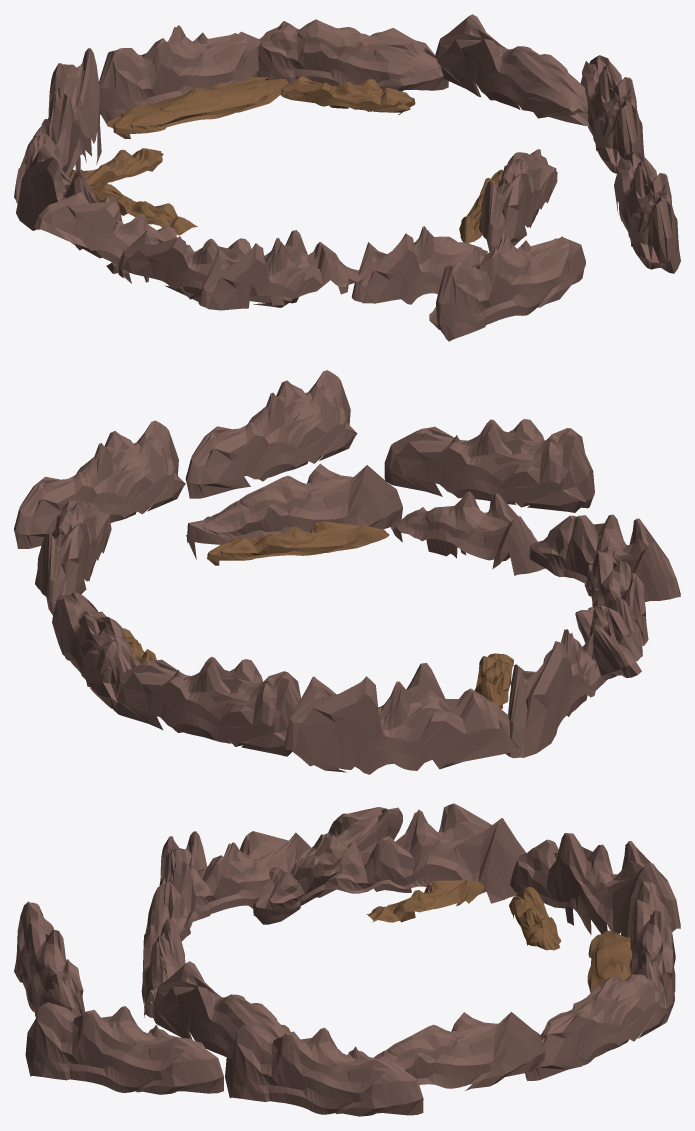
The model's file is mountains.gltf.
3 views of the same model, one above another, from view 1: azimuth 30°, elevation 25°; view 2: azimuth 150°, elevation 25°; view 3: azimuth 270°, elevation 25° (orthographic). The views are drawn at different scales.
Parts seen in each view (by area): view 1: FarMountains8_MountainsHills_0, Hills6_MountainsHills_0, FarMountains_MountainsHills_0, Hills7_MountainsHills_0, FarMountains4_MountainsHills_0, FarMountains5_MountainsHills_0, FarMountains2_MountainsHills_0, FarMountains6_MountainsHills_0, Hills5_MountainsHills_0, Hills_MountainsHills_0, FarMountains9_MountainsHills_0, FarMountains7_MountainsHills_0 (+6 smaller); view 2: FarMountains2_MountainsHills_0, FarMountains8_MountainsHills_0, FarMountains_MountainsHills_0, FarMountains6_MountainsHills_0, FarMountains7_MountainsHills_0, Hills_MountainsHills_0, FarMountains1_MountainsHills_0, FarMountains5_MountainsHills_0, FarMountains4_MountainsHills_0, Hills6_MountainsHills_0, Hills7_MountainsHills_0, Hills1_MountainsHills_0 (+3 smaller); view 3: FarMountains7_MountainsHills_0, FarMountains6_MountainsHills_0, FarMountains1_MountainsHills_0, FarMountains2_MountainsHills_0, Hills7_MountainsHills_0, Hills6_MountainsHills_0, FarMountains9_MountainsHills_0, Hills_MountainsHills_0, FarMountains3_MountainsHills_0, FarMountains8_MountainsHills_0, FarMountains_MountainsHills_0, FarMountains4_MountainsHills_0 (+4 smaller).
Boxes of the visible parts, x1,y1,x2,y2 form: FarMountains8_MountainsHills_0: [429, 235, 585, 341]; Hills6_MountainsHills_0: [257, 19, 448, 91]; FarMountains_MountainsHills_0: [99, 25, 260, 126]; Hills7_MountainsHills_0: [435, 14, 589, 126]; FarMountains4_MountainsHills_0: [198, 230, 365, 310]; FarMountains5_MountainsHills_0: [351, 226, 487, 304]; FarMountains2_MountainsHills_0: [14, 48, 101, 203]; FarMountains6_MountainsHills_0: [614, 151, 680, 273]; Hills5_MountainsHills_0: [107, 77, 288, 138]; Hills_MountainsHills_0: [479, 149, 557, 251]; FarMountains9_MountainsHills_0: [34, 192, 200, 301]; FarMountains7_MountainsHills_0: [580, 55, 644, 173]; FarMountains2_MountainsHills_0: [283, 663, 520, 774]; FarMountains8_MountainsHills_0: [384, 419, 594, 512]; FarMountains_MountainsHills_0: [113, 656, 300, 756]; FarMountains6_MountainsHills_0: [185, 370, 357, 498]; FarMountains7_MountainsHills_0: [14, 420, 185, 548]; Hills_MountainsHills_0: [186, 463, 402, 559]; FarMountains1_MountainsHills_0: [506, 629, 607, 758]; FarMountains5_MountainsHills_0: [390, 492, 545, 575]; FarMountains4_MountainsHills_0: [529, 514, 680, 601]; Hills6_MountainsHills_0: [52, 592, 140, 708]; Hills7_MountainsHills_0: [35, 499, 111, 614]; Hills1_MountainsHills_0: [207, 521, 389, 565]; FarMountains7_MountainsHills_0: [225, 1024, 423, 1116]; FarMountains6_MountainsHills_0: [25, 1002, 223, 1094]; FarMountains1_MountainsHills_0: [317, 803, 525, 903]; FarMountains2_MountainsHills_0: [510, 833, 680, 937]; Hills7_MountainsHills_0: [373, 1012, 545, 1090]; Hills6_MountainsHills_0: [525, 974, 668, 1080]; FarMountains9_MountainsHills_0: [249, 807, 402, 924]; Hills_MountainsHills_0: [153, 961, 288, 1056]; FarMountains3_MountainsHills_0: [190, 831, 310, 921]; FarMountains8_MountainsHills_0: [14, 901, 85, 1017]; FarMountains_MountainsHills_0: [630, 881, 675, 1024]; FarMountains4_MountainsHills_0: [145, 831, 207, 941].
Bounding box in the file's own units: 0.9019 × 0.1685 × 0.8826.
1 material, 1 textured.
